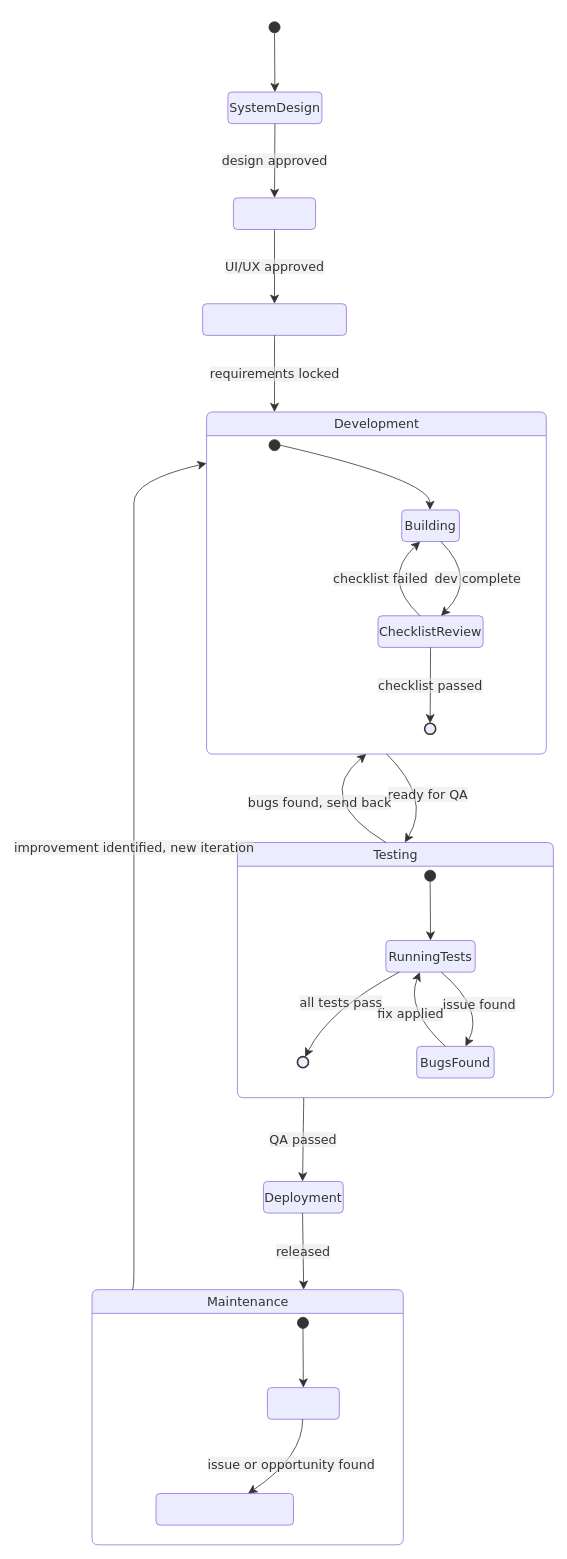
The diagram is 567 pixels wide and 1559 high, and some of its shapes have lost their labels. The box of each missing label's shape, as (x1, y1, x2, y2) in pixels:
ImprovementIdentified: (155, 1493, 293, 1525)
Monitoring: (267, 1387, 339, 1419)
TechnicalRequirements: (202, 303, 346, 335)
UIUXDesign: (233, 197, 316, 229)
